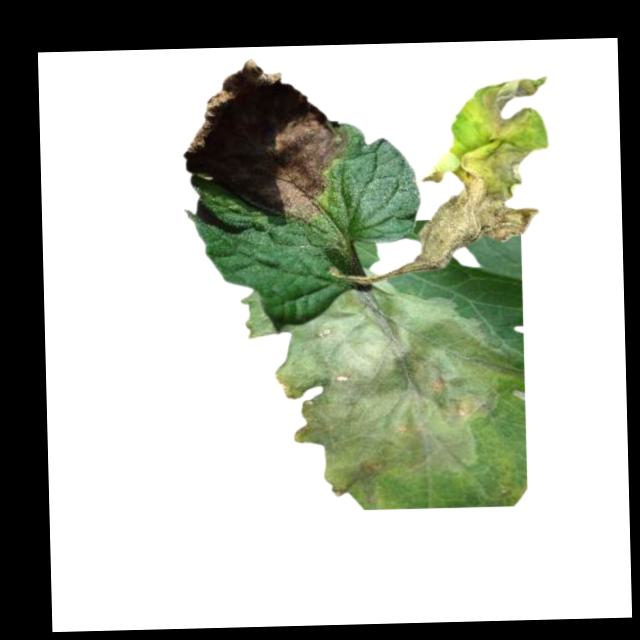Late_blight: (274, 284, 526, 510), (398, 75, 555, 276), (181, 55, 353, 222)
